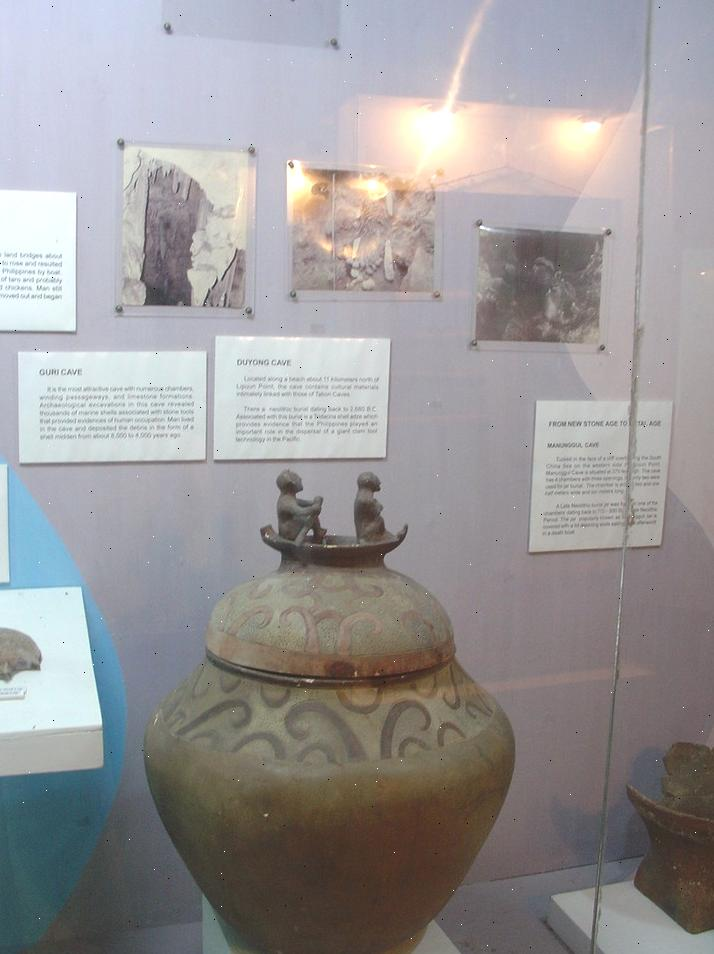manunggul_jar: (131, 458, 521, 954)
